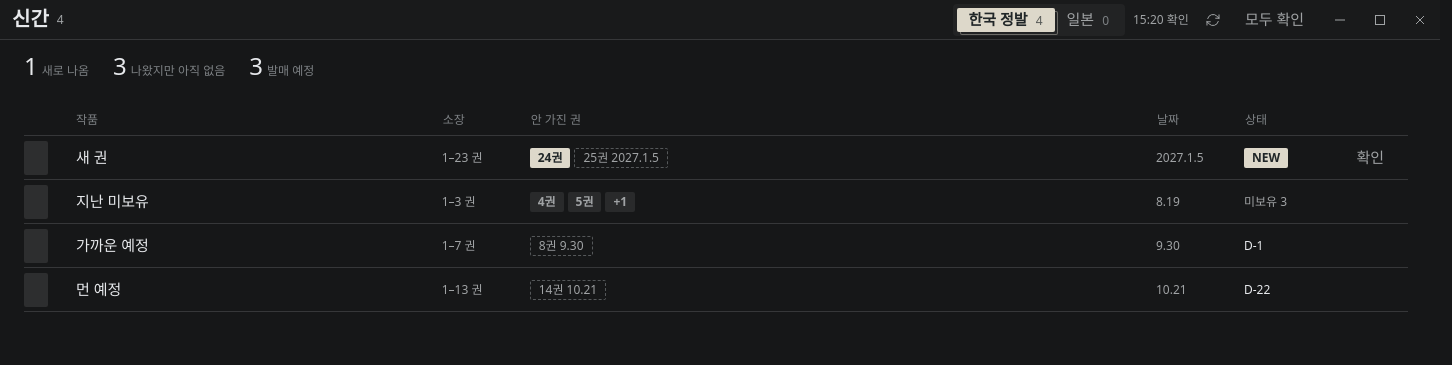
Test: shows a calm message when the server rate-limits 새로고침
Click the button named "새로고침": (1213, 20) [1197,6,1229,34]
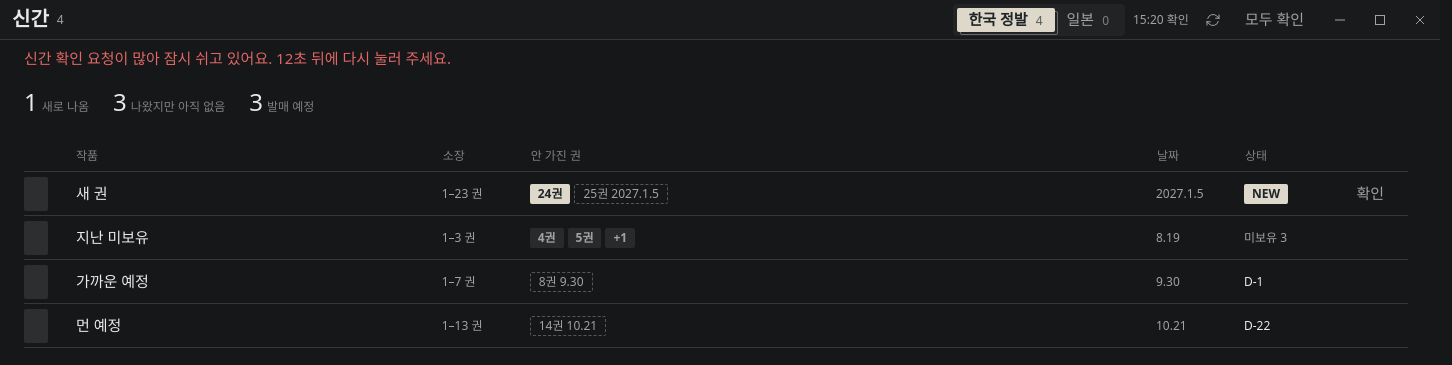
Expected: the message shows "12초 뒤에 다시 눌러 주세요", [24,48,451,68]
